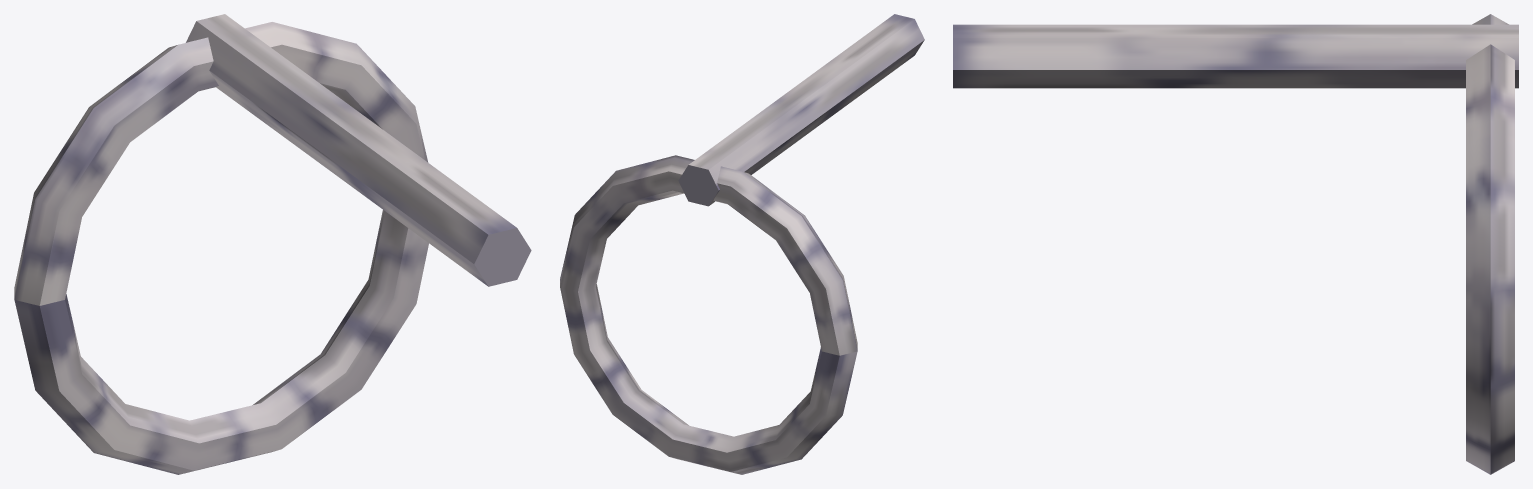
Rendered from smoke_pin.fbx.
The picture shows the model from 3 angles, left to right: view 1: azimuth 30°, elevation 25°; view 2: azimuth 150°, elevation 25°; view 3: azimuth 270°, elevation 25°; orthographic projection. The views are drawn at different scales.
Parts seen in each view (by area): view 1: smoke_pin; view 2: smoke_pin; view 3: smoke_pin.
Boxes of the visible parts, x1,y1,x2,y2 form: smoke_pin: (14, 14, 531, 474); smoke_pin: (560, 14, 924, 474); smoke_pin: (953, 14, 1518, 474).
Size of the model in its own units: 0.0938 by 0.0925 by 0.1125.
